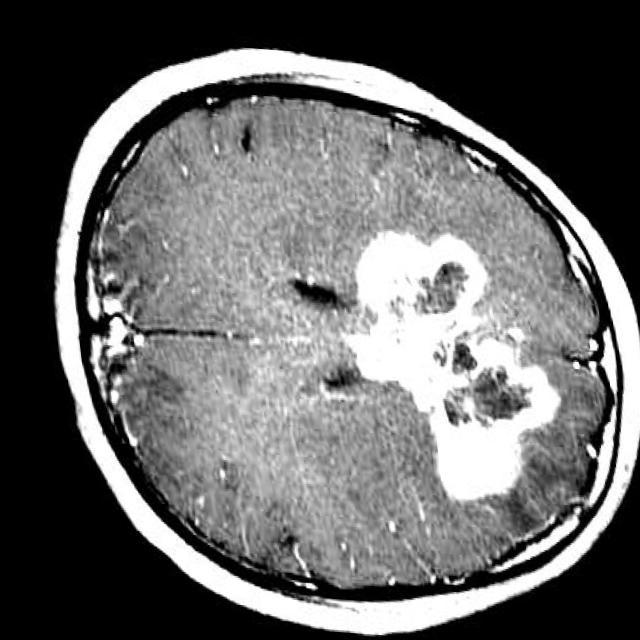Tumor: (332, 224, 550, 490)
